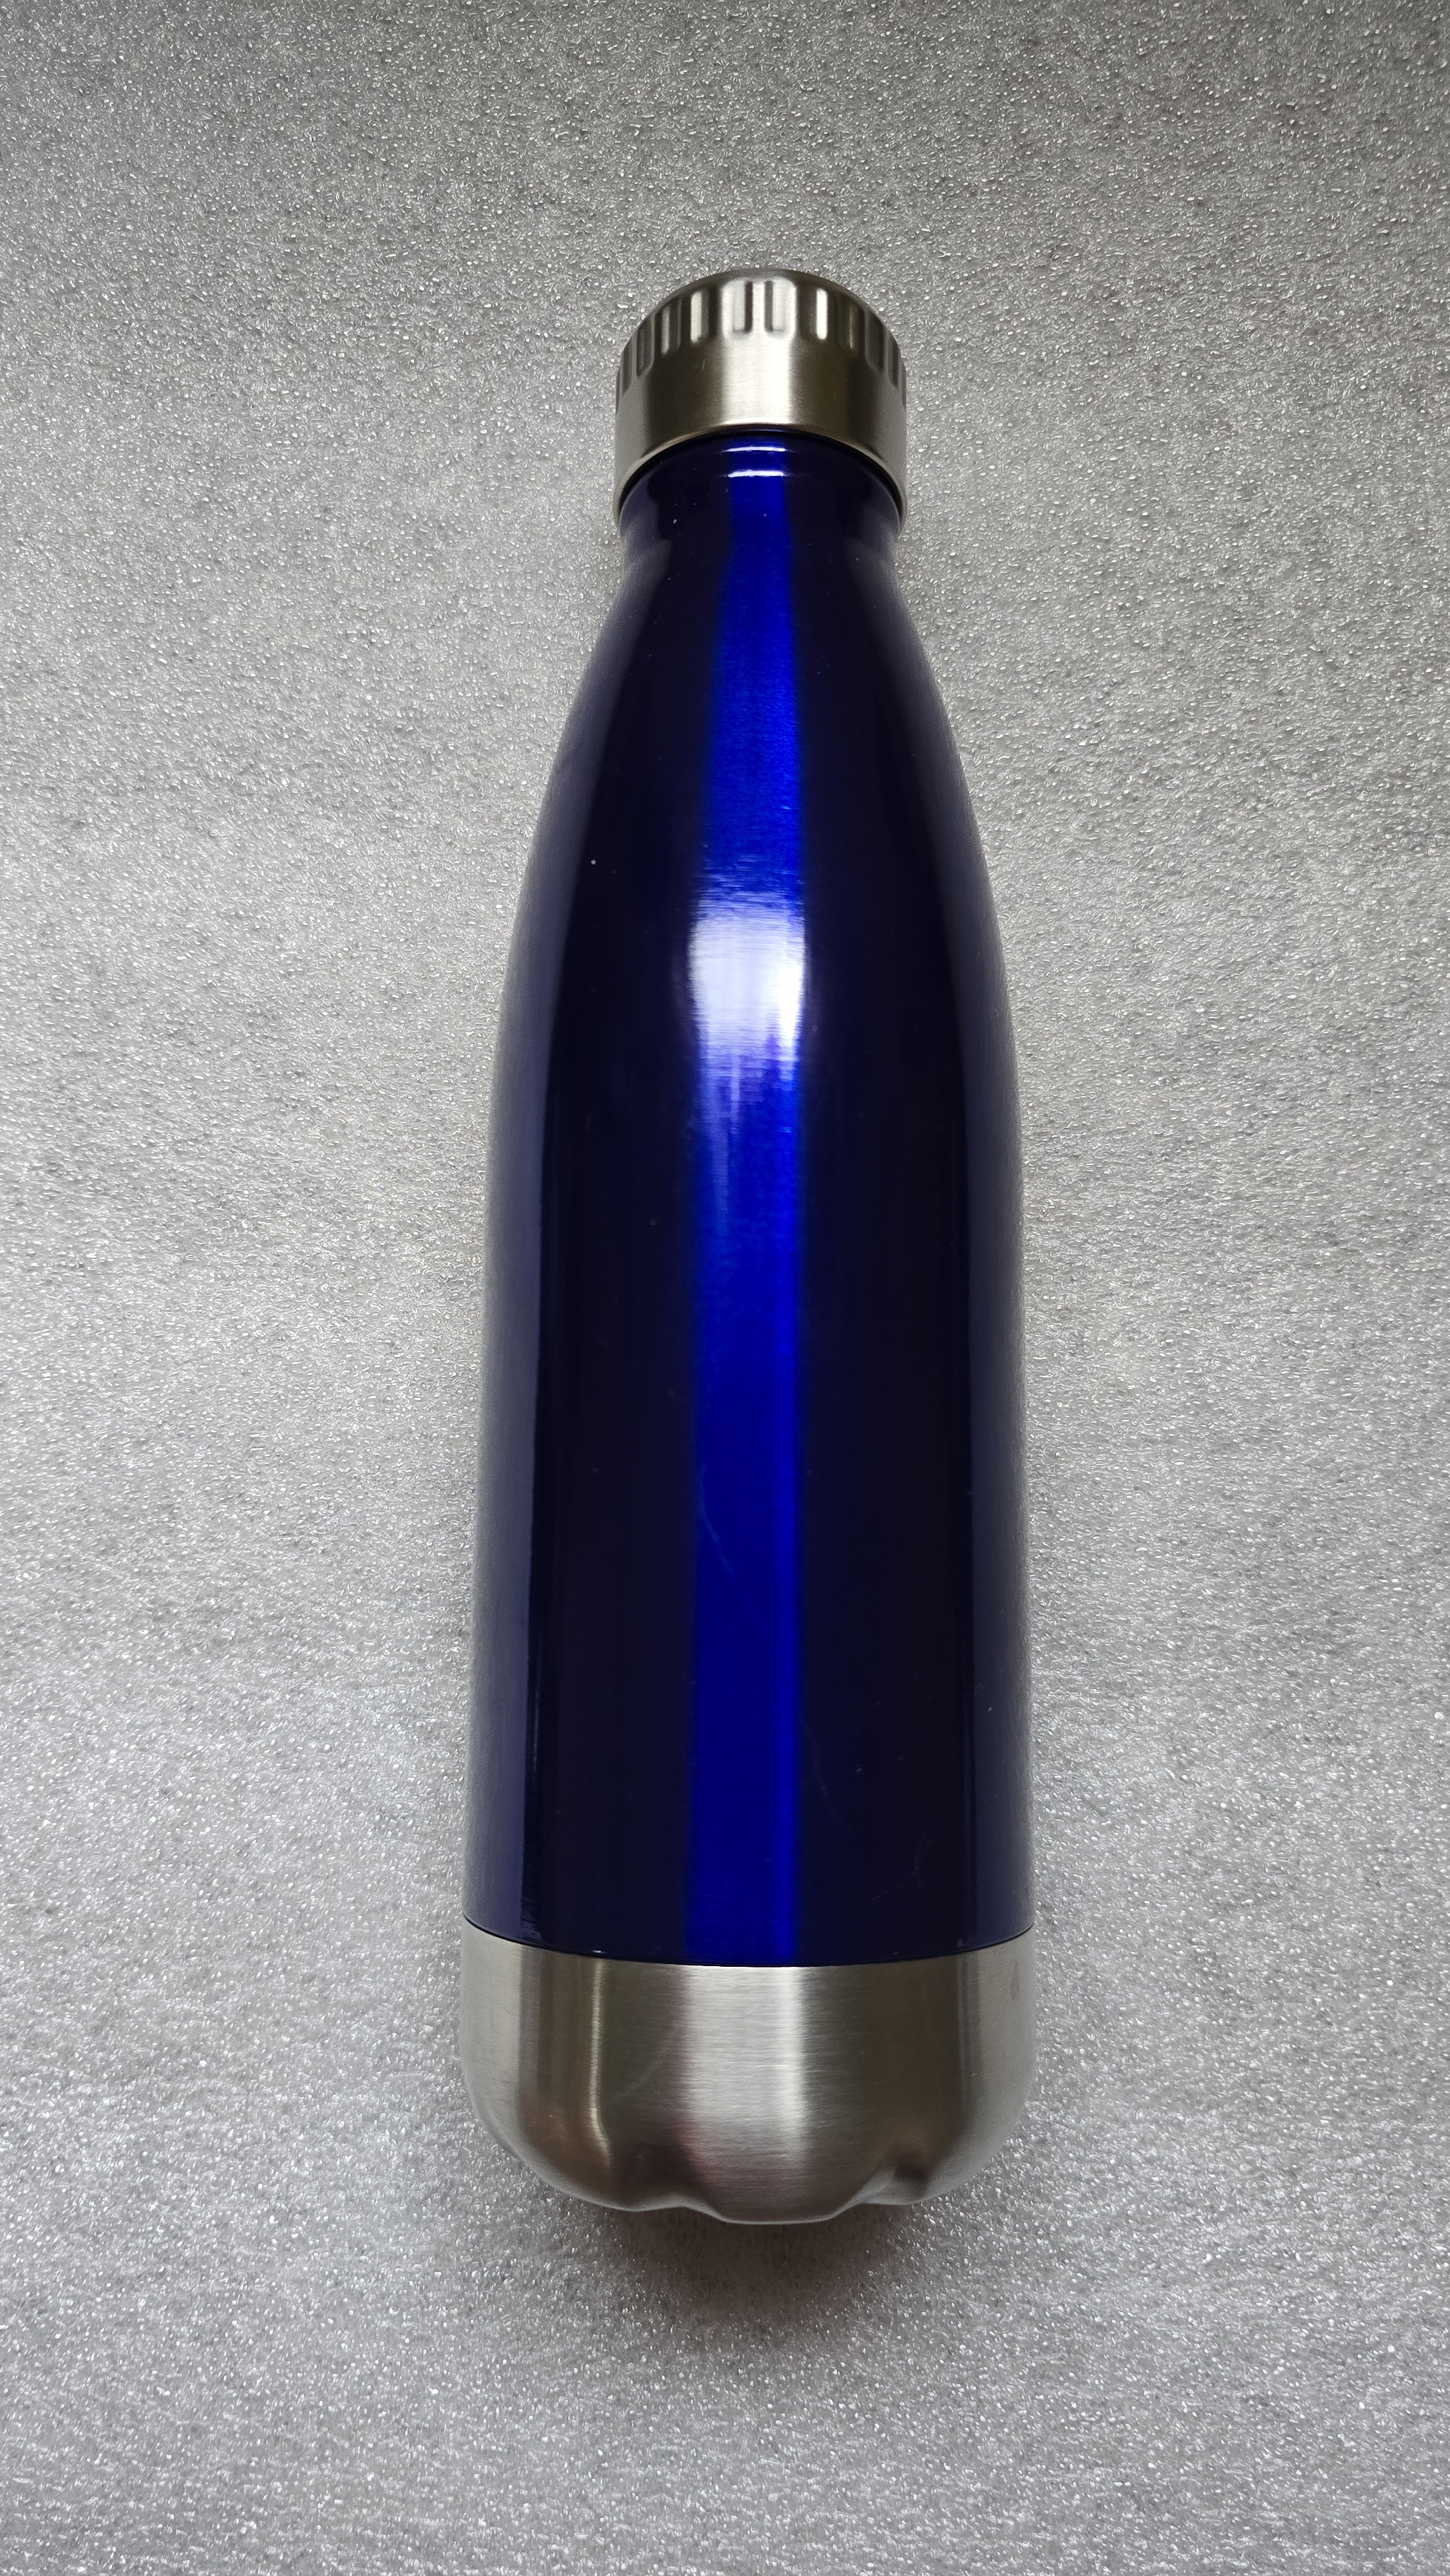bottle: (426, 202, 1088, 2261)
